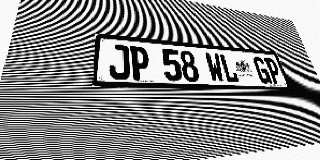5: (162, 49, 183, 81)
8: (179, 50, 200, 82)
G: (252, 56, 272, 84)
J: (109, 44, 130, 80)
L: (219, 54, 240, 83)
P: (129, 46, 151, 80), (263, 58, 284, 84)
W: (205, 52, 226, 82)
